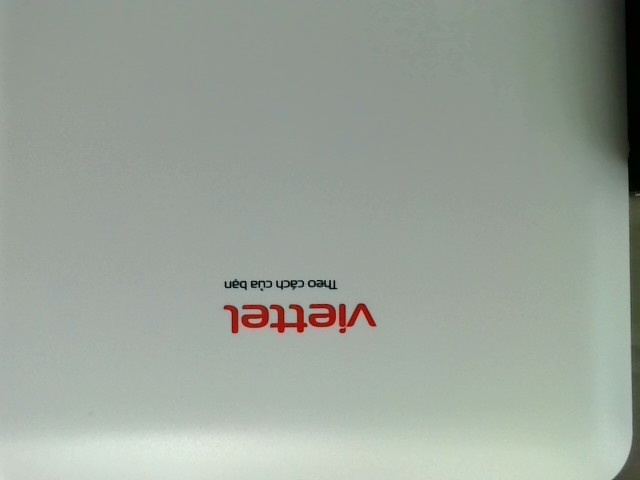AY_Viettel: (222, 271, 382, 336)
